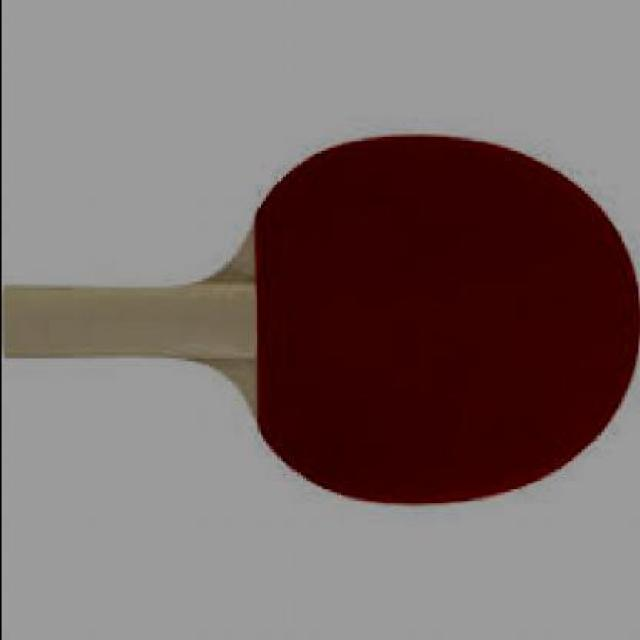table_tennis_racket: (251, 134, 638, 508)
